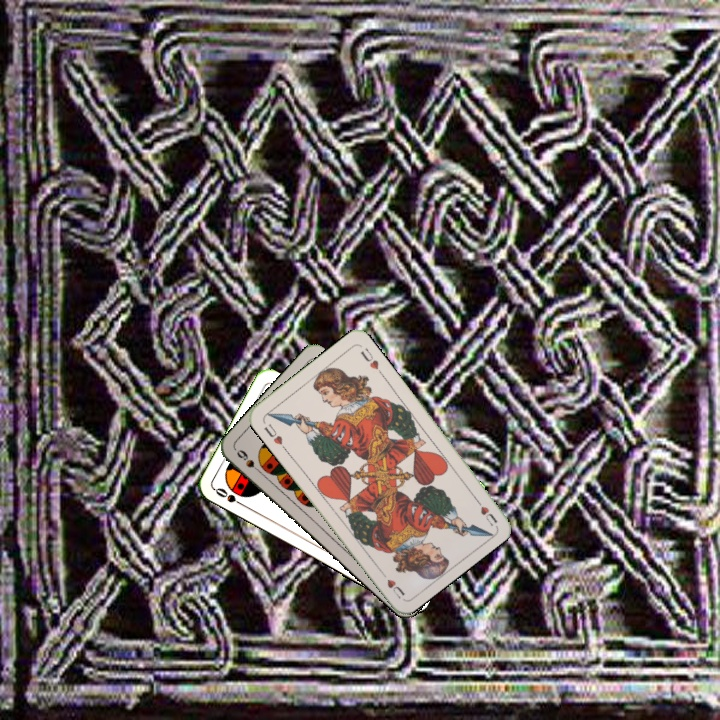HU: (470, 493, 500, 529), (259, 419, 285, 448)
S9: (233, 446, 265, 477)
SO: (211, 484, 249, 510)
